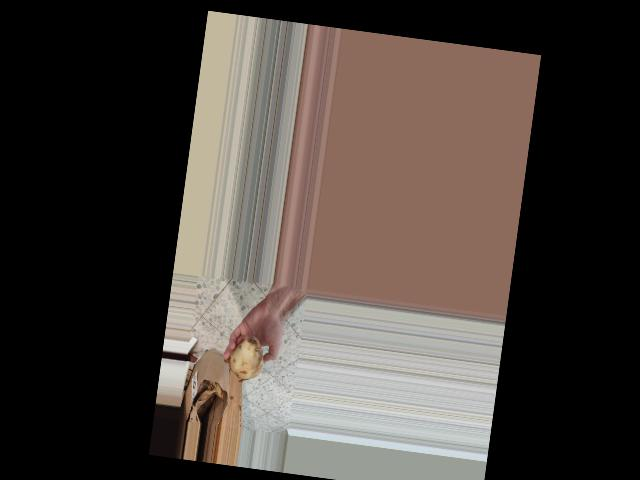onion: (222, 330, 269, 385)
